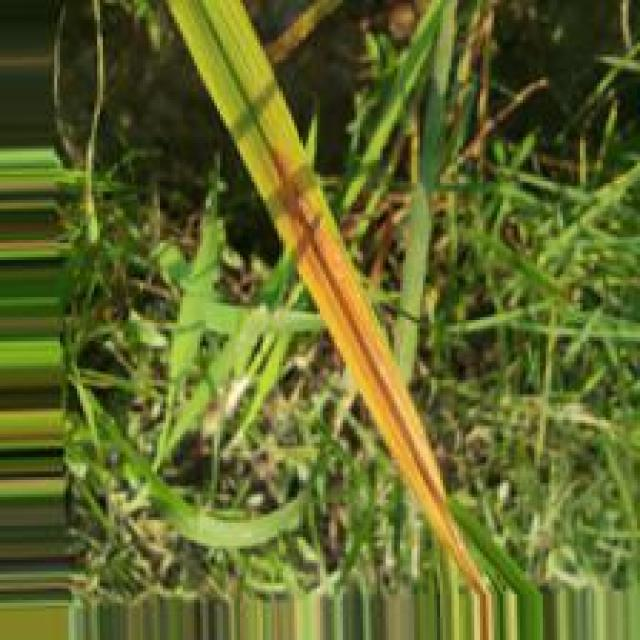Leaf_Blast: (263, 135, 492, 597)
